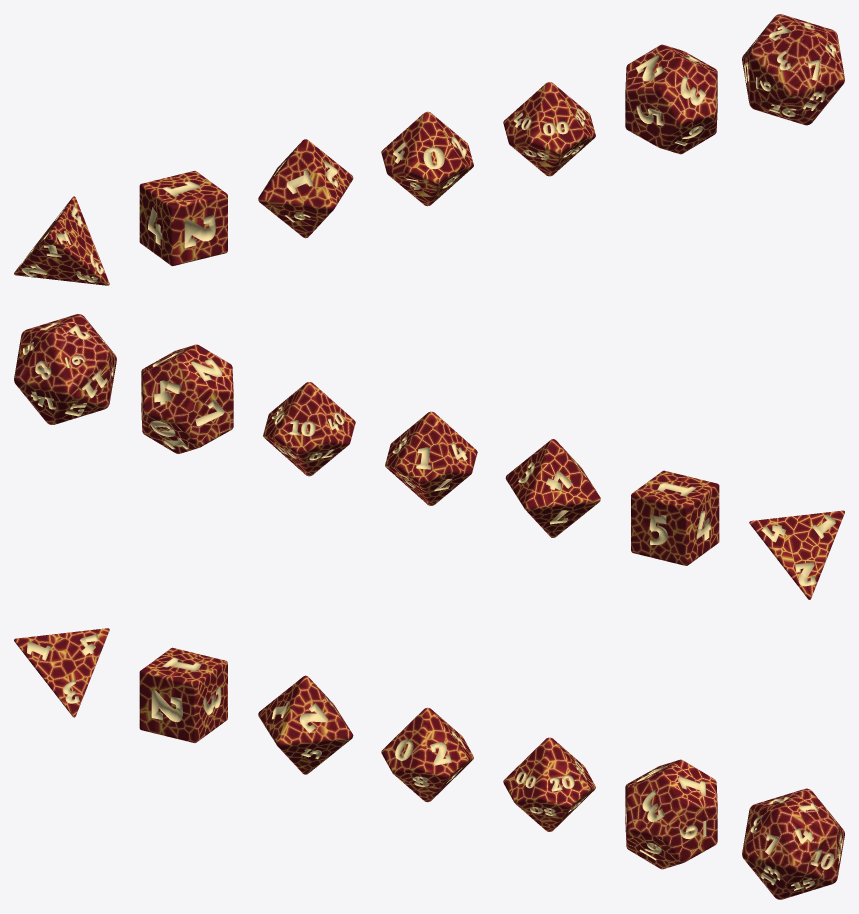
Rendered from dragon-scale.glb.
3 views of the same model, one above another, from view 1: azimuth 30°, elevation 25°; view 2: azimuth 150°, elevation 25°; view 3: azimuth 330°, elevation 25° (orthographic).
Parts seen in each view (by area): view 1: d20, d12, d6, d100, d10, d8, d4; view 2: d20, d12, d6, d100, d10, d8, d4; view 3: d20, d12, d6, d8, d10, d100, d4.
Boxes of the visible parts, box(x1,y1,x2,y2) form: d20: box(742, 14, 844, 125); d12: box(625, 44, 717, 154); d6: box(139, 171, 227, 266); d100: box(503, 82, 595, 176); d10: box(381, 111, 473, 206); d8: box(258, 139, 353, 238); d4: box(14, 196, 109, 285); d20: box(14, 314, 116, 424); d12: box(141, 344, 233, 453); d6: box(631, 470, 719, 565); d100: box(263, 382, 355, 476); d10: box(385, 411, 477, 505); d8: box(505, 439, 600, 537); d4: box(749, 510, 844, 599); d20: box(742, 788, 844, 899); d12: box(625, 759, 717, 869); d6: box(139, 647, 227, 742); d8: box(258, 675, 353, 774); d10: box(381, 707, 473, 802); d100: box(503, 737, 595, 831); d4: box(14, 628, 109, 717).
Bounding box in the file's own units: 21.14 × 2.47 × 2.47.
Materials: 14 (7 with a texture image).
